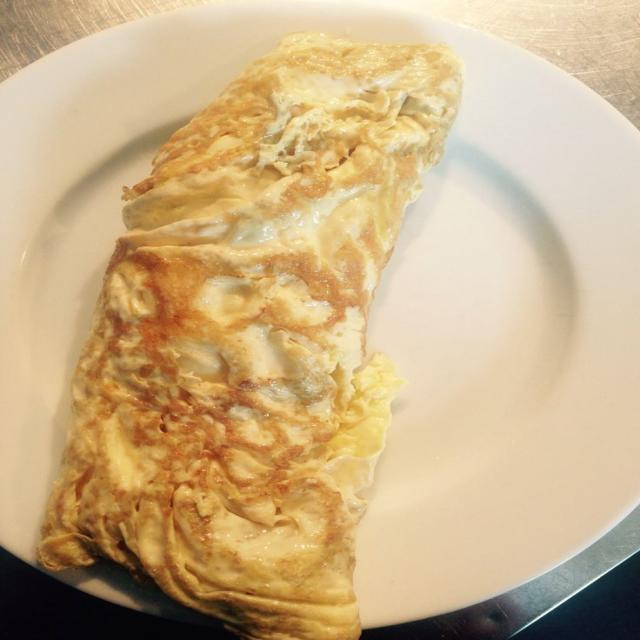omelette: (38, 33, 460, 639)
